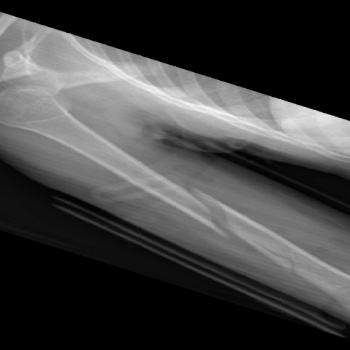Fracture: (166, 189, 240, 246), (258, 238, 305, 283)
